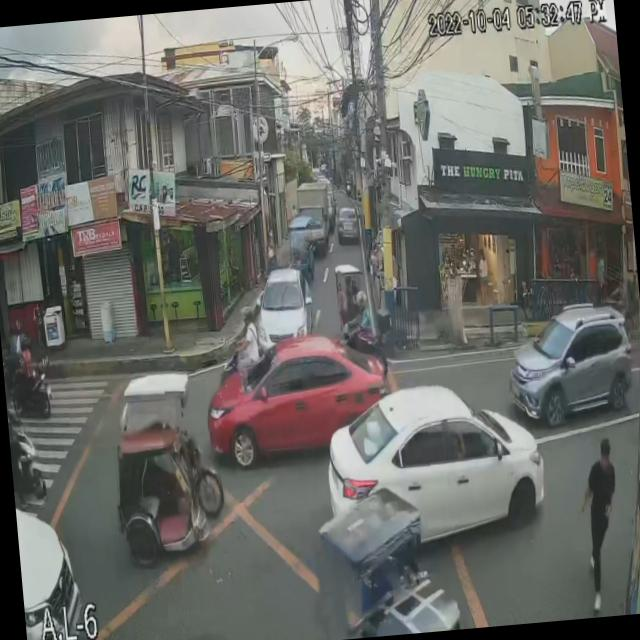full: (354, 288, 368, 310)
half: (240, 306, 254, 326)
